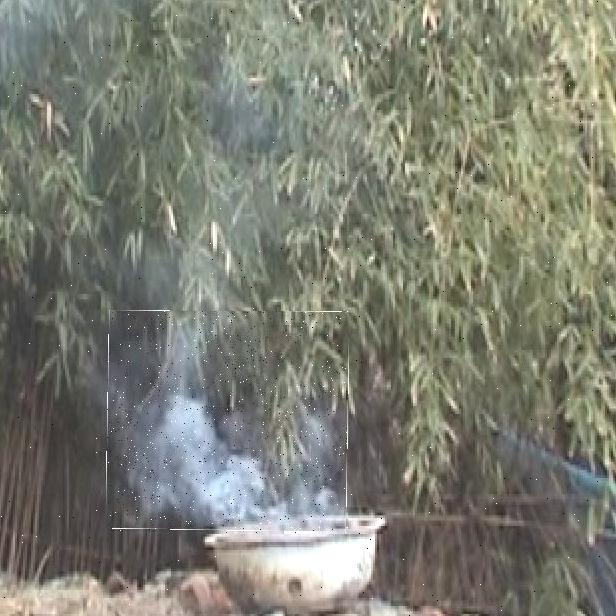smoke: (107, 312, 348, 534)
